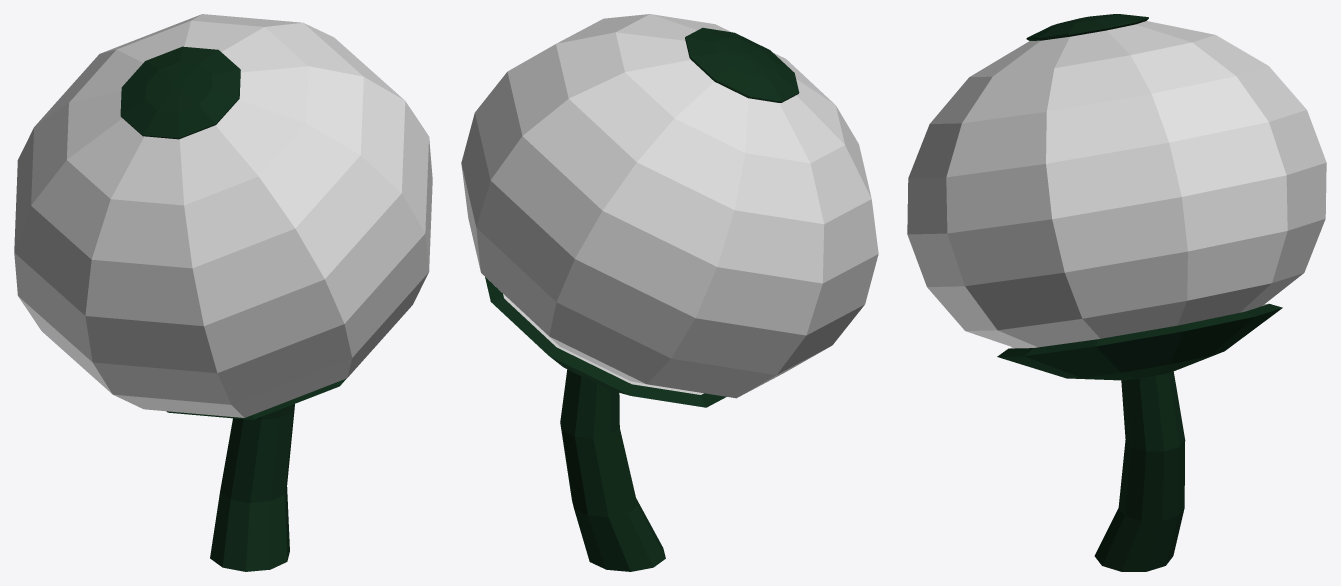
The model's file is GreenbulbBottom.fbx.
The picture shows the model from 3 angles, left to right: view 1: azimuth 30°, elevation 25°; view 2: azimuth 150°, elevation 25°; view 3: azimuth 270°, elevation 25°; orthographic projection. The views are drawn at different scales.
Parts seen in each view (by area): view 1: Green bulb; view 2: Green bulb; view 3: Green bulb.
Boxes of the visible parts, x1=… form: Green bulb: x1=14, y1=14, x2=432, y2=571; Green bulb: x1=461, y1=14, x2=878, y2=571; Green bulb: x1=907, y1=14, x2=1326, y2=571.
Size of the model in its own units: 85.77 by 118 by 88.71.
